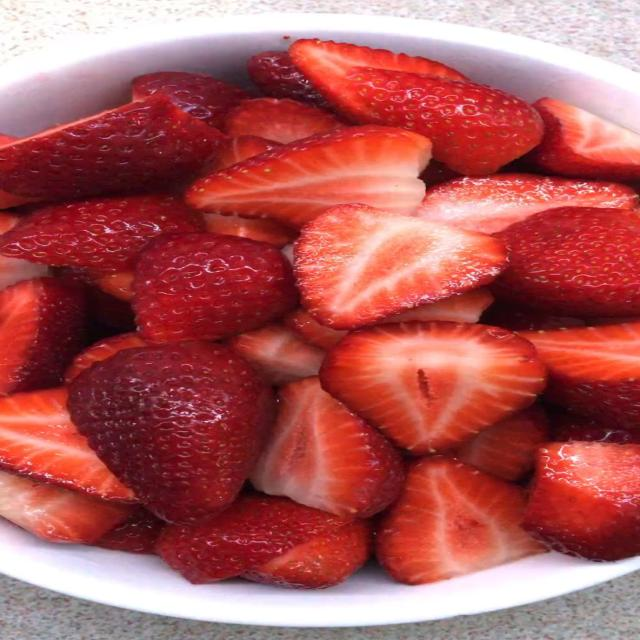strawberry sliced: (69, 341, 274, 524), (320, 322, 545, 453), (294, 205, 506, 329), (187, 127, 431, 227), (331, 67, 543, 175), (0, 96, 222, 199), (251, 377, 403, 517), (376, 457, 542, 584), (156, 494, 352, 583), (134, 234, 297, 341), (492, 207, 639, 318), (0, 195, 204, 270), (0, 389, 134, 501), (524, 442, 639, 560), (417, 174, 638, 233), (520, 322, 639, 427), (289, 39, 465, 109), (0, 278, 85, 395), (0, 472, 131, 543), (528, 98, 639, 180), (241, 520, 372, 589), (456, 407, 548, 480), (133, 72, 249, 127), (229, 324, 325, 385), (58, 268, 135, 343), (223, 98, 343, 143), (247, 51, 329, 108), (66, 333, 147, 384), (380, 289, 493, 322), (381, 289, 493, 322), (94, 507, 166, 553), (481, 301, 586, 331), (205, 213, 297, 247), (205, 214, 297, 247), (550, 413, 639, 444), (285, 308, 347, 349), (208, 136, 279, 170), (0, 256, 48, 290), (89, 271, 133, 301), (420, 160, 460, 188), (0, 191, 37, 209), (0, 134, 19, 146)
